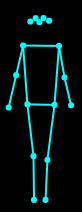mountain: (3, 12, 76, 205)
